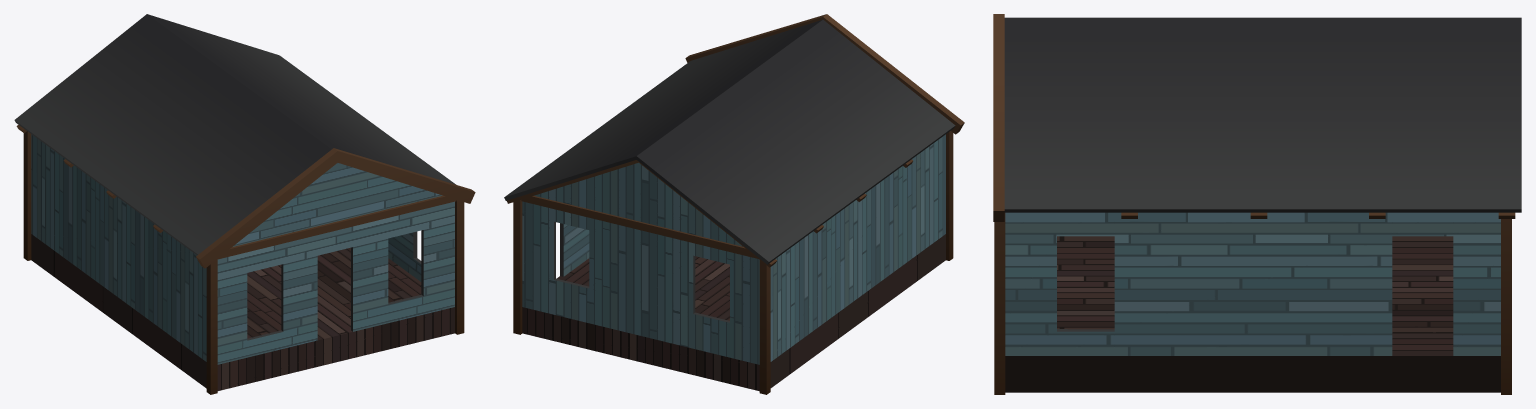
The model's file is House 7 M Blue.glb.
3 renders of one model, left to right at view 1: azimuth 30°, elevation 25°; view 2: azimuth 150°, elevation 25°; view 3: azimuth 270°, elevation 25°, orthographic. The views are drawn at different scales.
Parts seen in each view (by area): view 1: House 7 M Blue; view 2: House 7 M Blue; view 3: House 7 M Blue.
Part boxes in pixels (left/top/right/bottom): House 7 M Blue: left=14, top=14, right=475, bottom=394; House 7 M Blue: left=504, top=14, right=964, bottom=394; House 7 M Blue: left=993, top=14, right=1521, bottom=394.
Size of what is drawn, in the model's own units: 7.83 by 5.79 by 9.38.
Materials: 3 (3 with a texture image).
